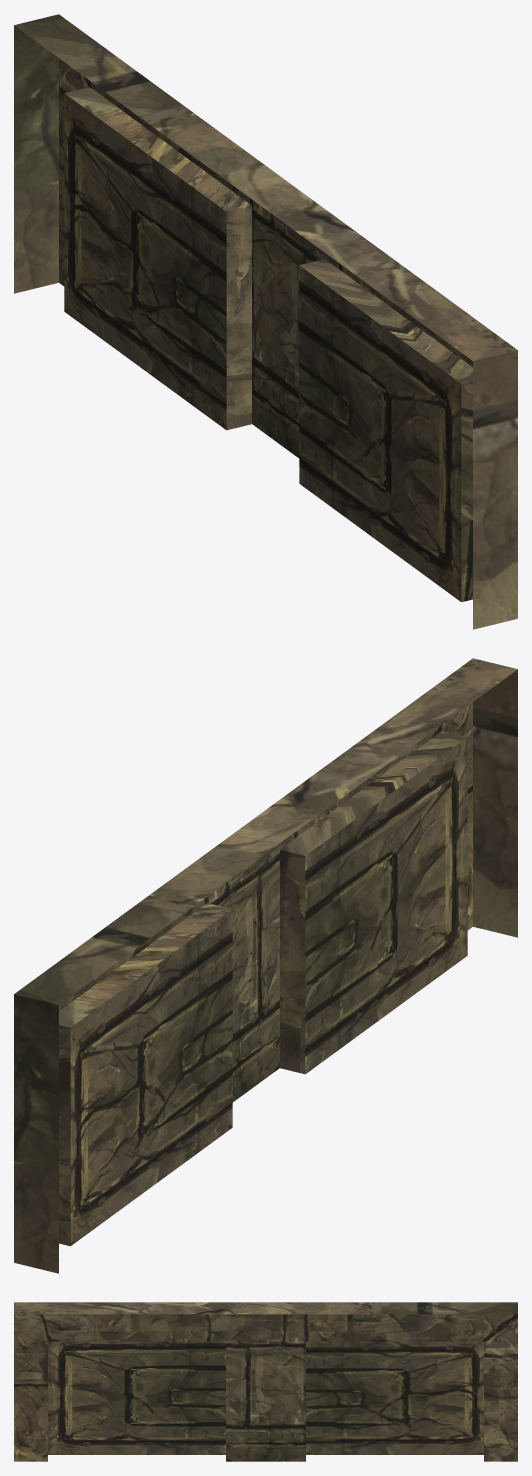
The model's file is big_wall.fbx.
3 views of the same model, one above another, from view 1: azimuth 30°, elevation 25°; view 2: azimuth 150°, elevation 25°; view 3: azimuth 270°, elevation 25° (orthographic). The views are drawn at different scales.
Visible parts, largest first — view 1: gate_low:gate_low:gate_low:pCube13; view 2: gate_low:gate_low:gate_low:pCube13; view 3: gate_low:gate_low:gate_low:pCube13.
Part boxes in pixels (x1=…): gate_low:gate_low:gate_low:pCube13: x1=14, y1=14, x2=517, y2=629; gate_low:gate_low:gate_low:pCube13: x1=14, y1=658, x2=517, y2=1273; gate_low:gate_low:gate_low:pCube13: x1=14, y1=1302, x2=517, y2=1461.
Size of the model in its own units: 19.94 by 114 by 353.
